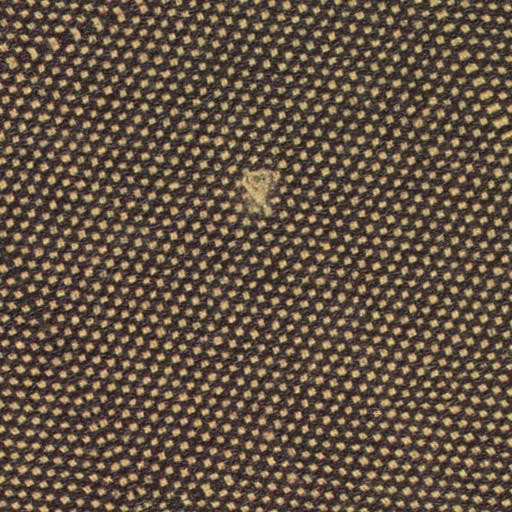knot: (235, 159, 289, 216)
